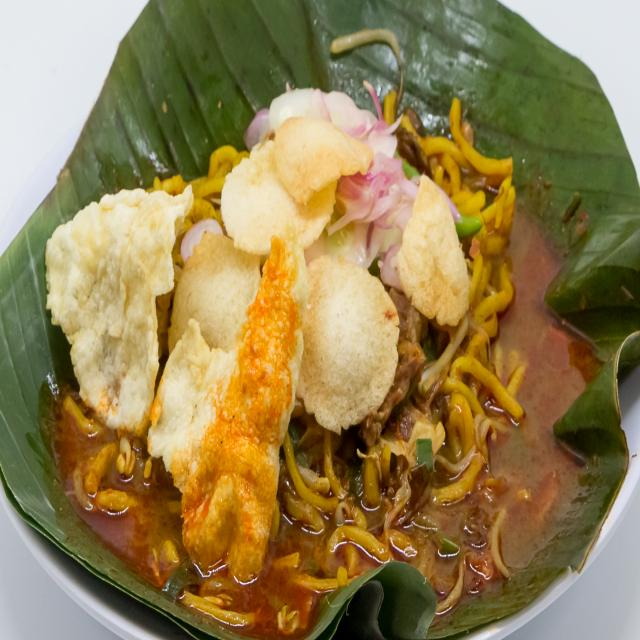Mie-Aceh: (28, 61, 522, 630)
